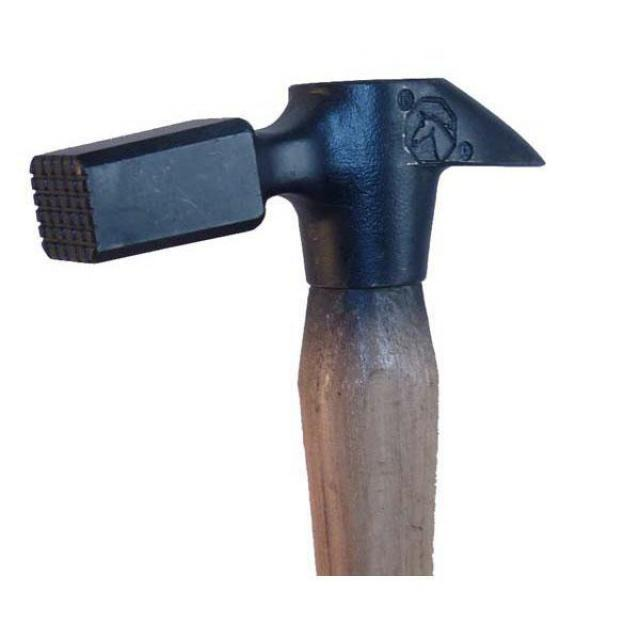hammer: (24, 71, 548, 574)
